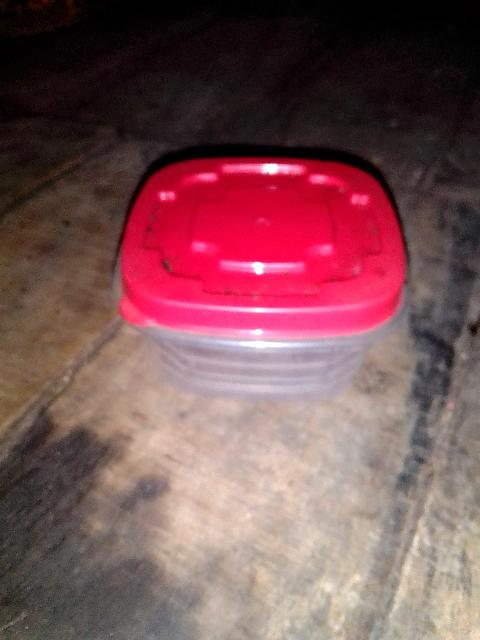hardplastic: (121, 142, 410, 410)
